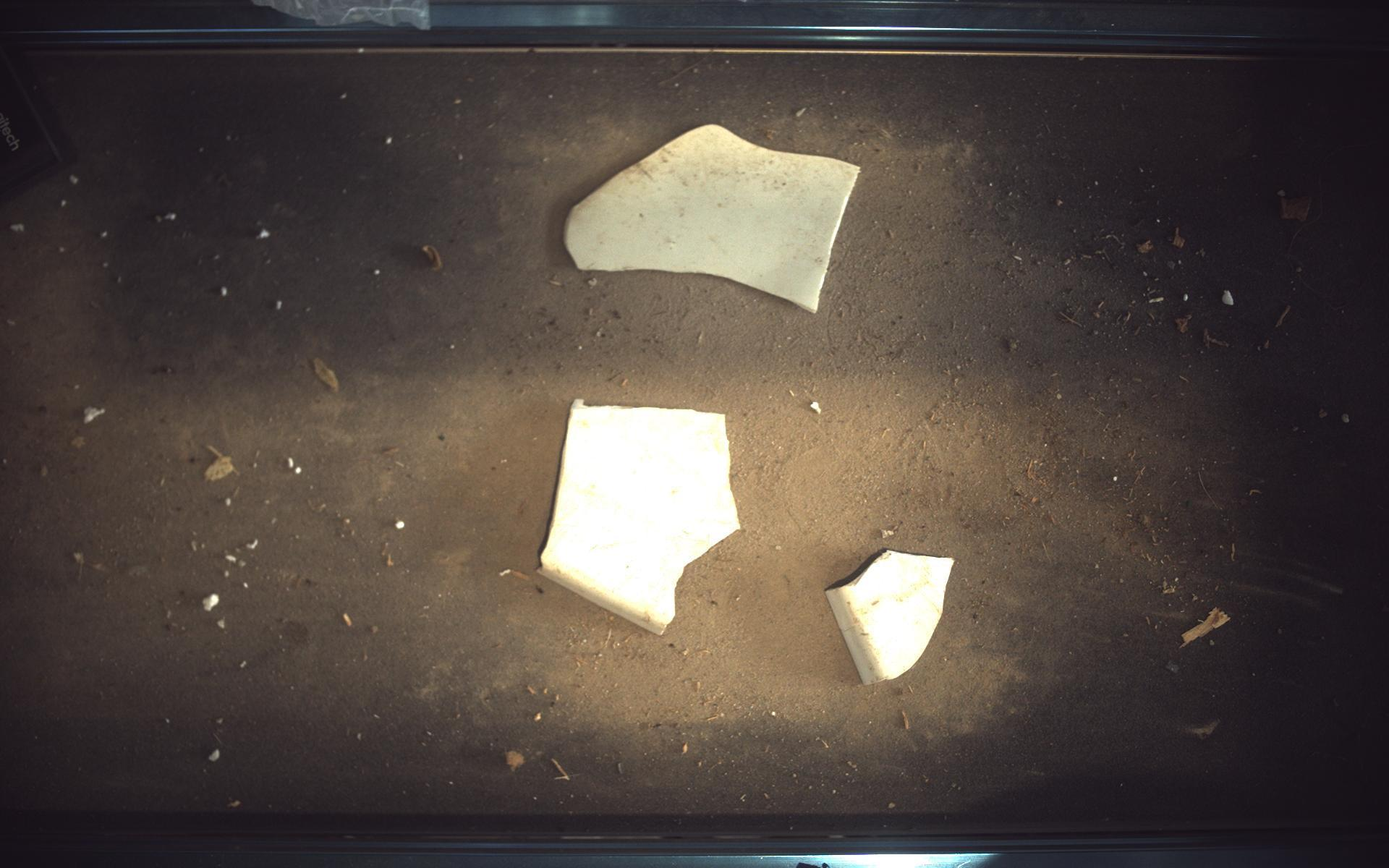plastic: (565, 124, 861, 311), (540, 399, 741, 636), (828, 550, 956, 685)
